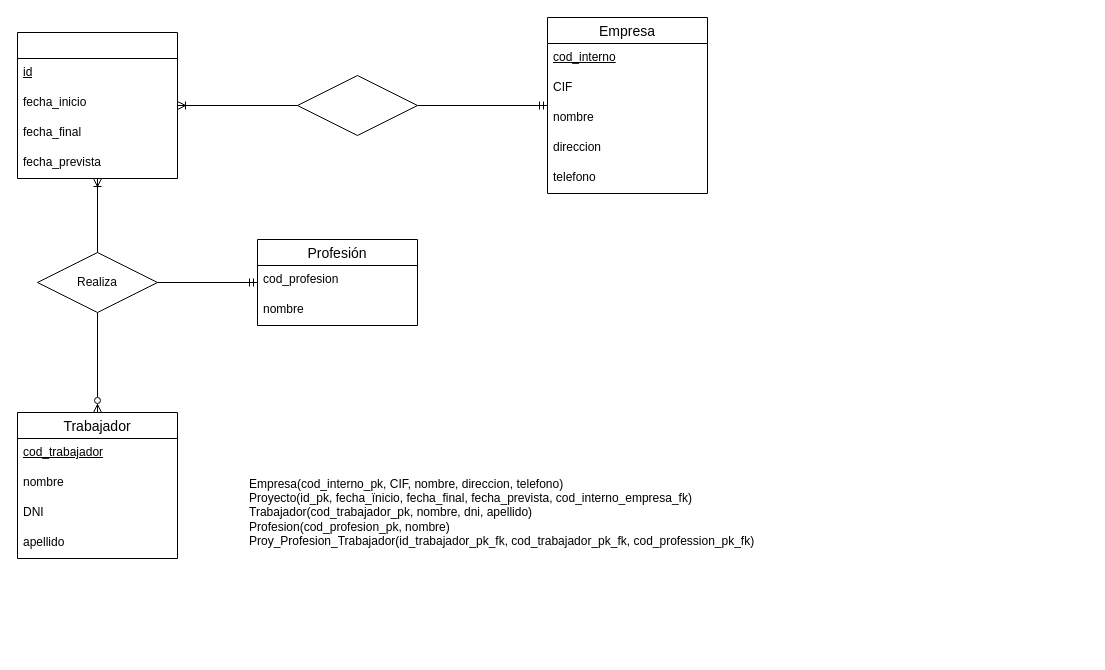
Some shapes in this 1105 by 670 pixel diagram are drawn without their labels. Each missing label, with the box of its shape:
Crear: (296, 74, 418, 136)
Proyecto: (16, 32, 178, 178)
